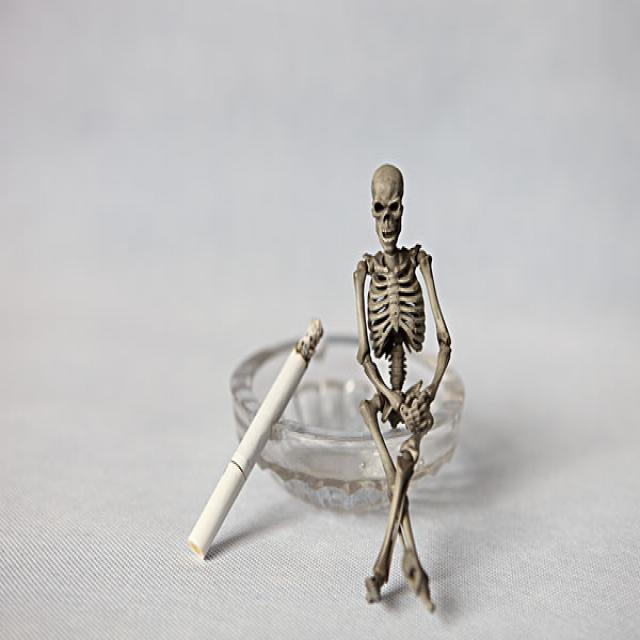smoking: (187, 319, 325, 561)
